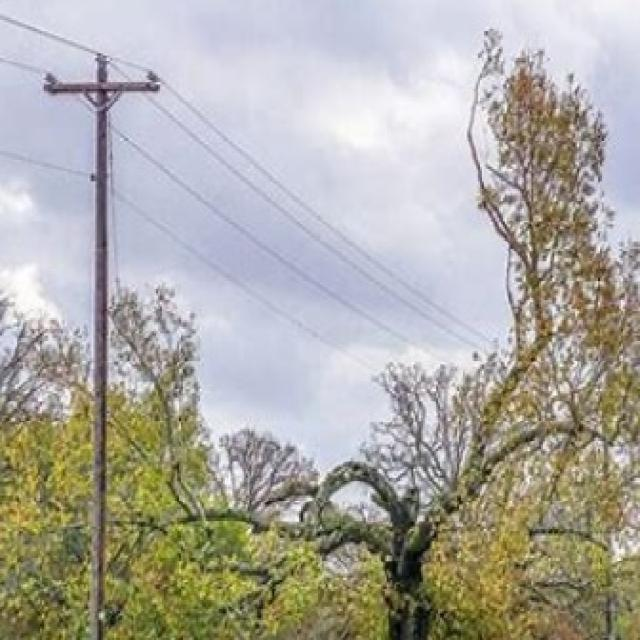utility poles: (40, 35, 178, 640)
